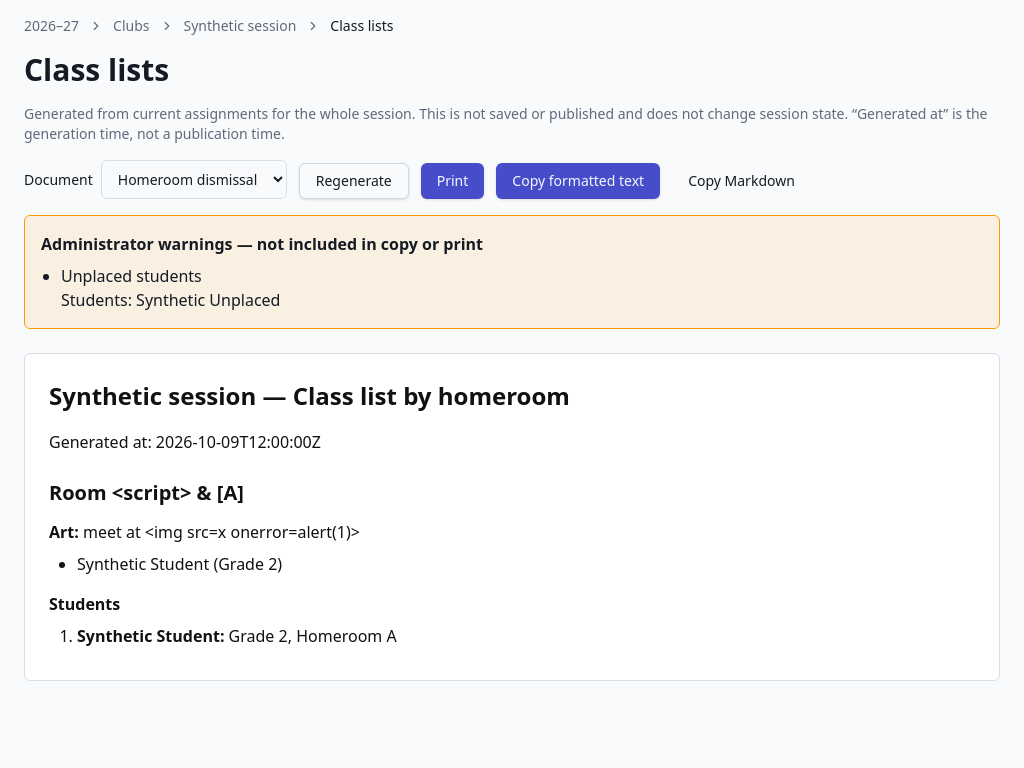
Scenario: session artifacts › removes the previous document immediately on kind changes and leaves actions disabled after failure
The width and height of the screenshot is (1024, 768).
Expected: the element named "Document preview" is shown, [24,353,1000,681]
Step 1. Select "Class lists" in the dropdown labelled "Document" → (194, 180), box [101,160,287,199]
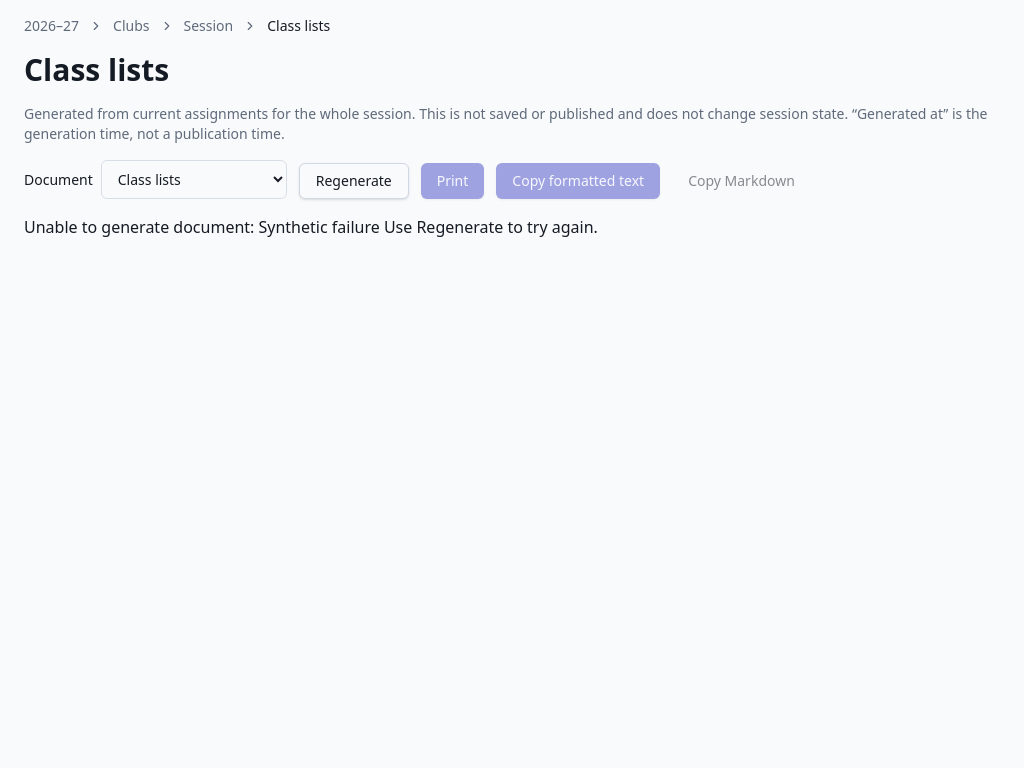
Expected: the text "Generating document…" is shown, [24,216,598,238]
Expected: the button "Copy formatted text" is disabled, [496,163,660,199]
Expected: the message shows "Synthetic failure", [258,216,380,238]
Step 2. Click the button "Regenerate" → (354, 181), box [299,163,409,199]
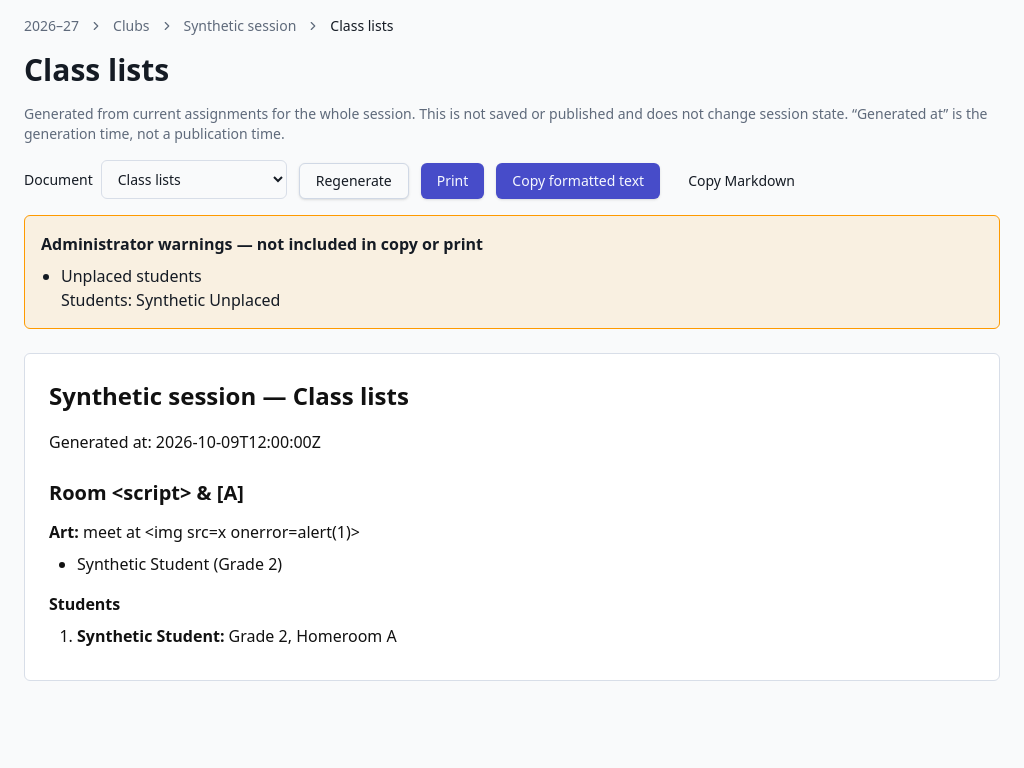
Expected: the element named "Document preview" is shown, [24,353,1000,681]
Expected: the message "Unable to generate document: Synthetic failure Use Regenerate to try again." no longer shows "Synthetic failure"
